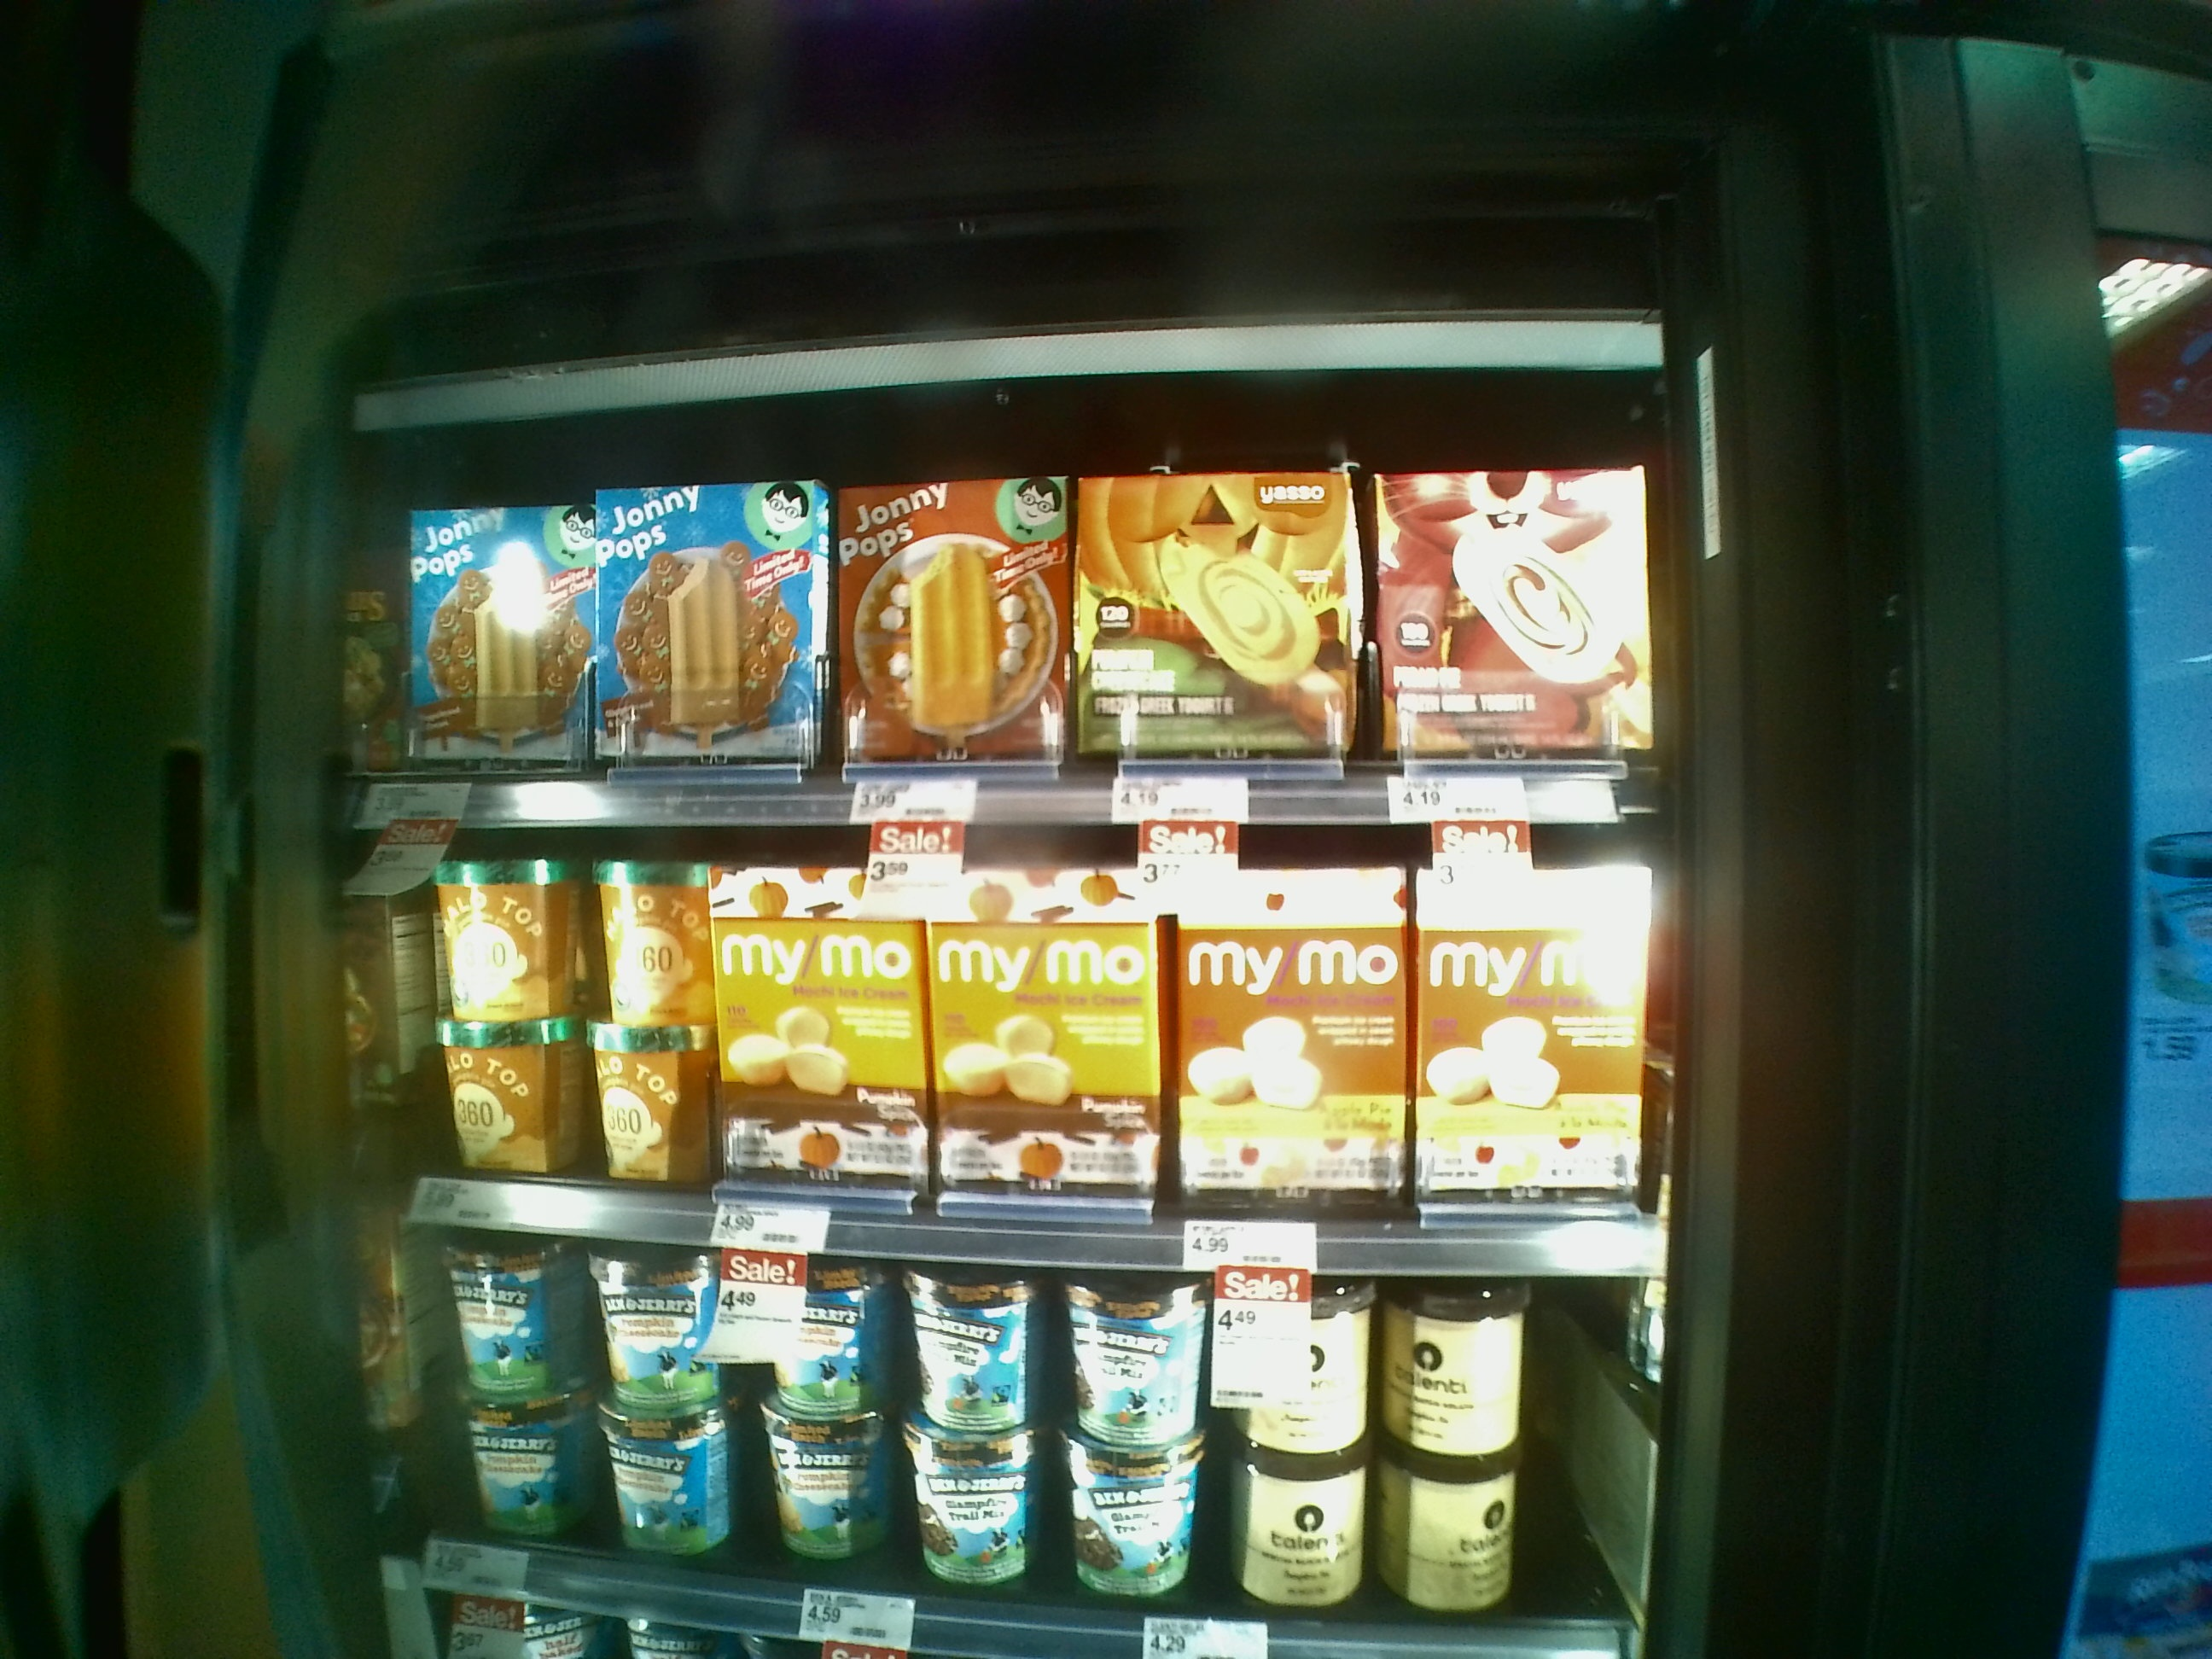shelf: (350, 781, 1672, 1276), (334, 401, 1674, 816)
